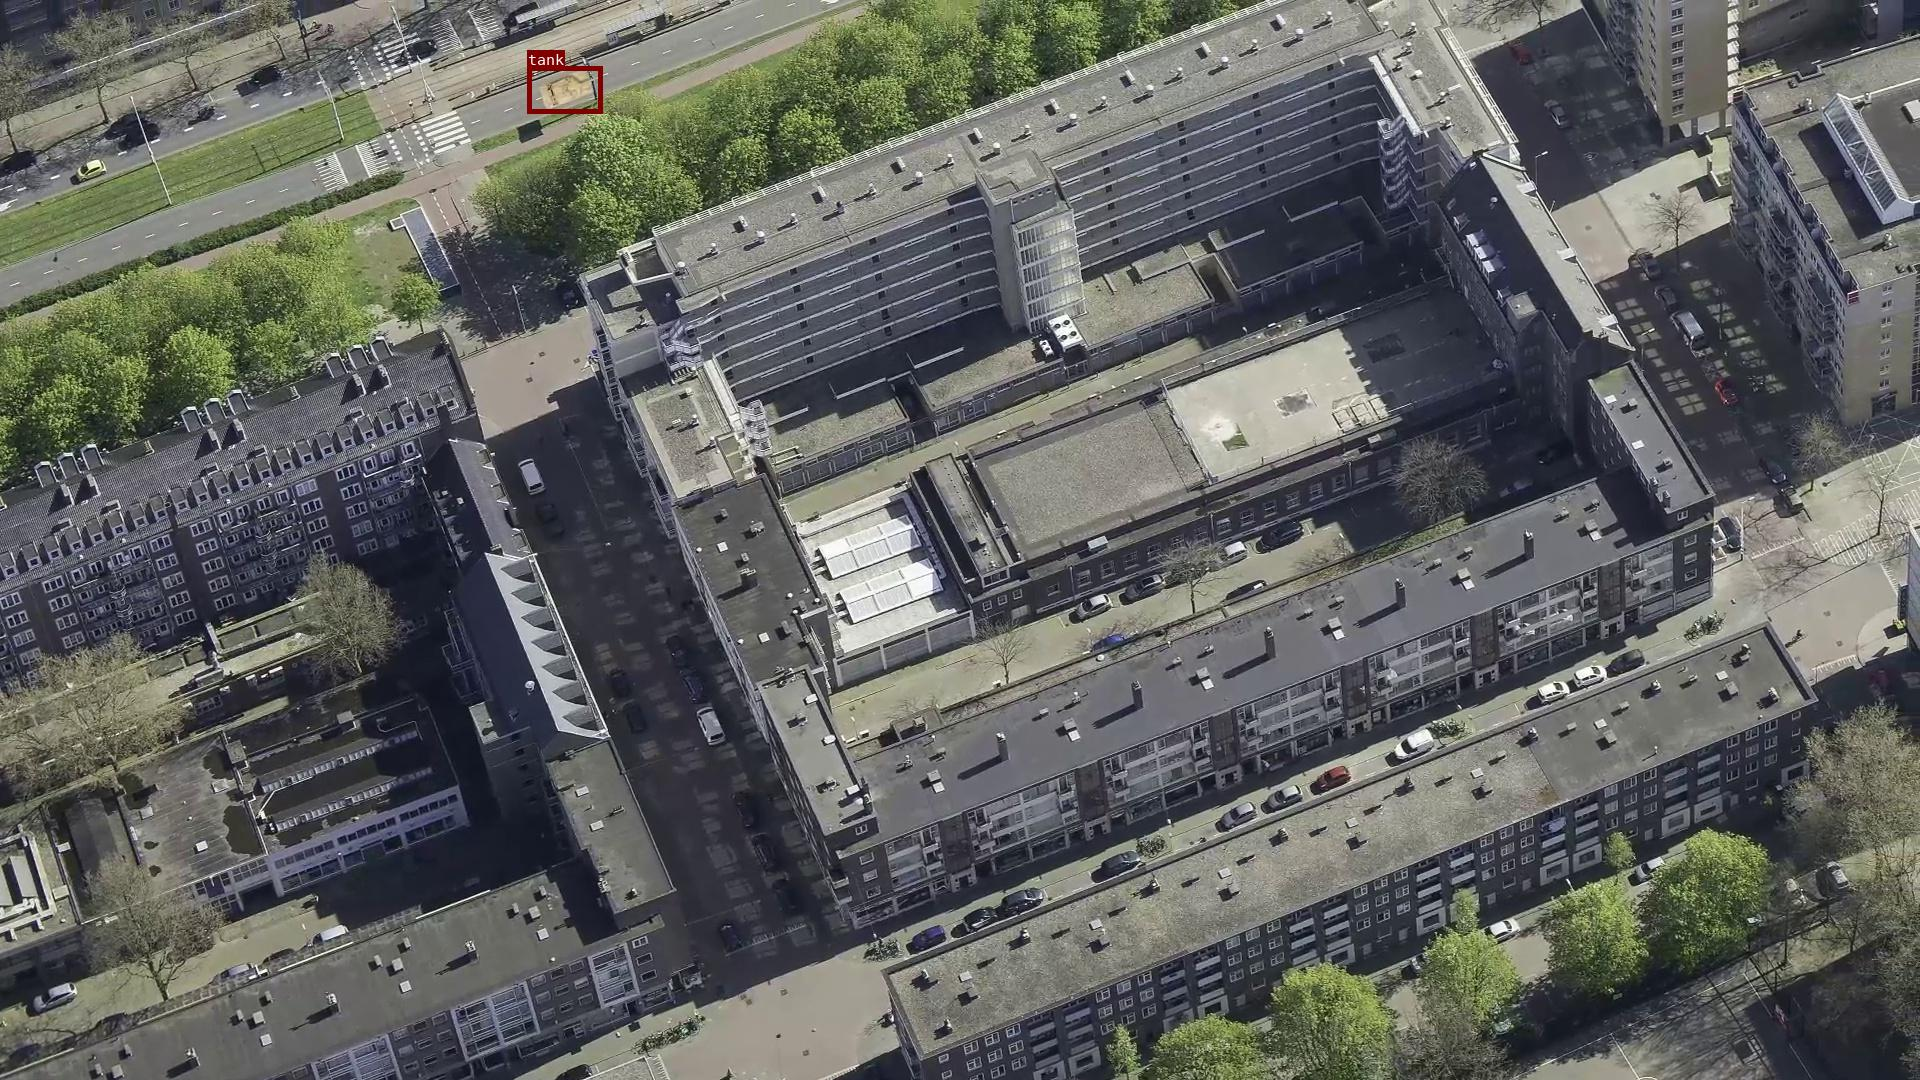tank: (527, 66, 603, 113)
